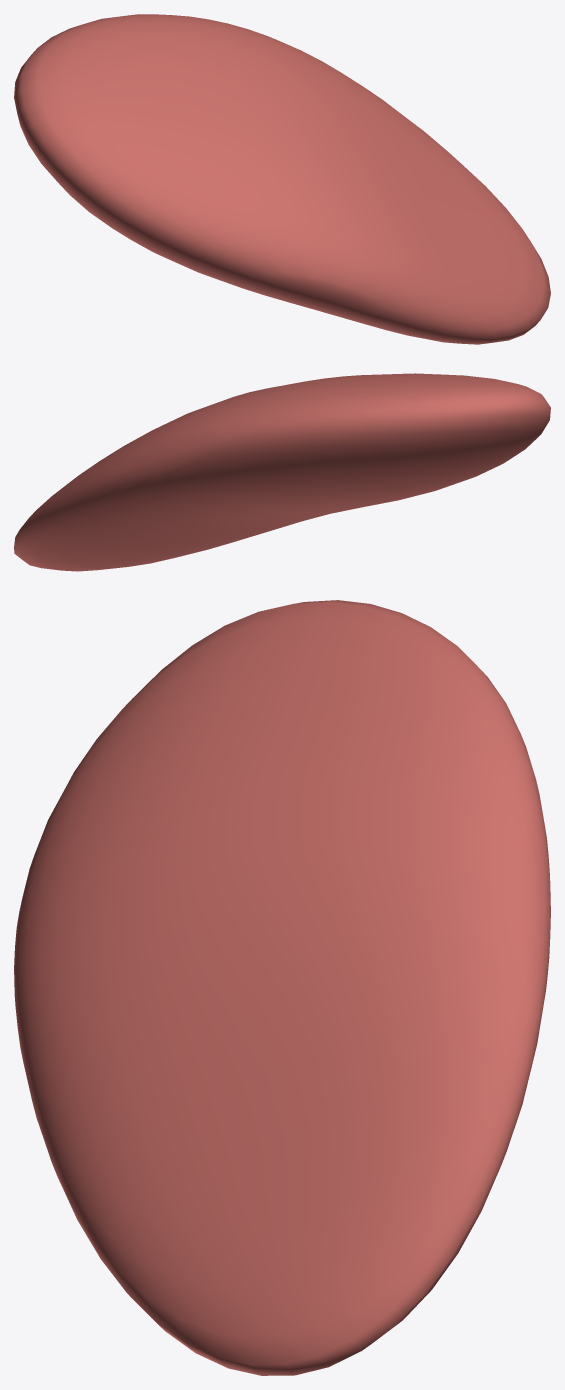
3 renders of one model, top to bottom at view 1: azimuth 30°, elevation 25°; view 2: azimuth 150°, elevation 25°; view 3: azimuth 270°, elevation 25°, orthographic. The views are drawn at different scales.
Visible parts, largest first — view 1: 左侧闭孔内肌腱下囊; view 2: 左侧闭孔内肌腱下囊; view 3: 左侧闭孔内肌腱下囊.
Boxes of the visible parts, x1,y1,x2,y2 form: 左侧闭孔内肌腱下囊: (14,14,550,344); 左侧闭孔内肌腱下囊: (14,373,550,571); 左侧闭孔内肌腱下囊: (14,600,550,1375).
Size of the model in its own units: 0.0187 by 0.011 by 0.0118.
